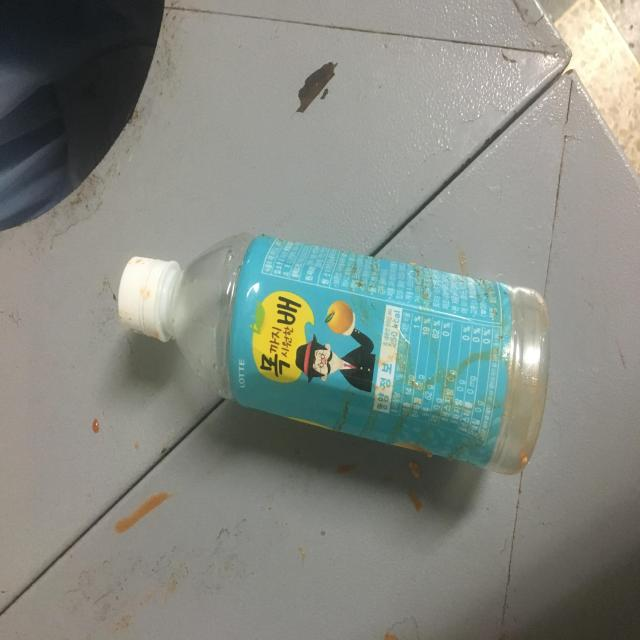bottle: (119, 227, 563, 473)
